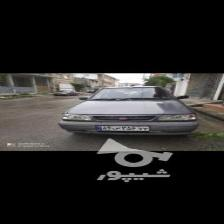plate: (95, 125, 148, 130)
